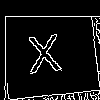X: (24, 25, 63, 74)
